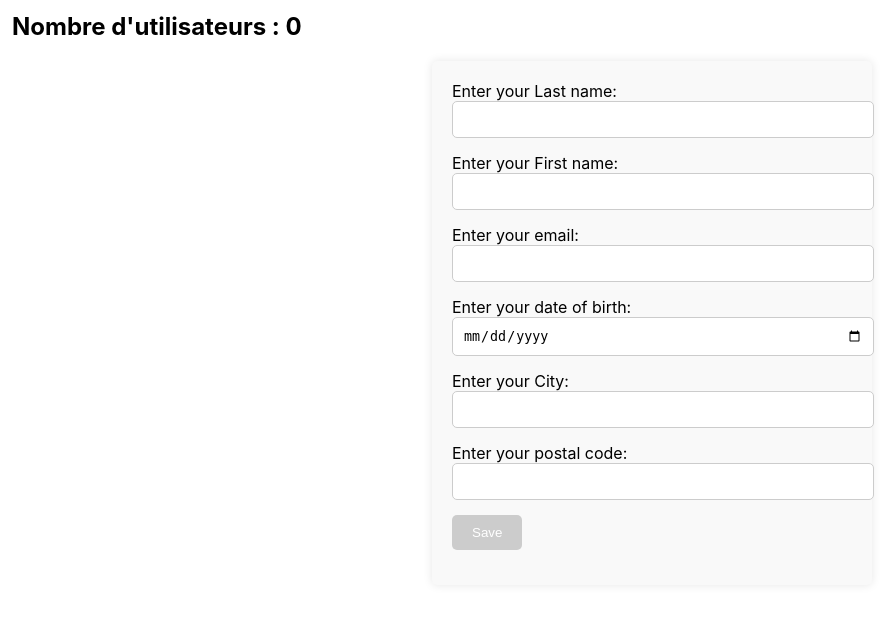
Test case: Form › validates email field
The image size is (891, 639).
# Valid email
Type "test@example.com" into the field labelled "Enter your email:".
click(663, 263); type("test@example.com")  # box [452, 245, 874, 282]
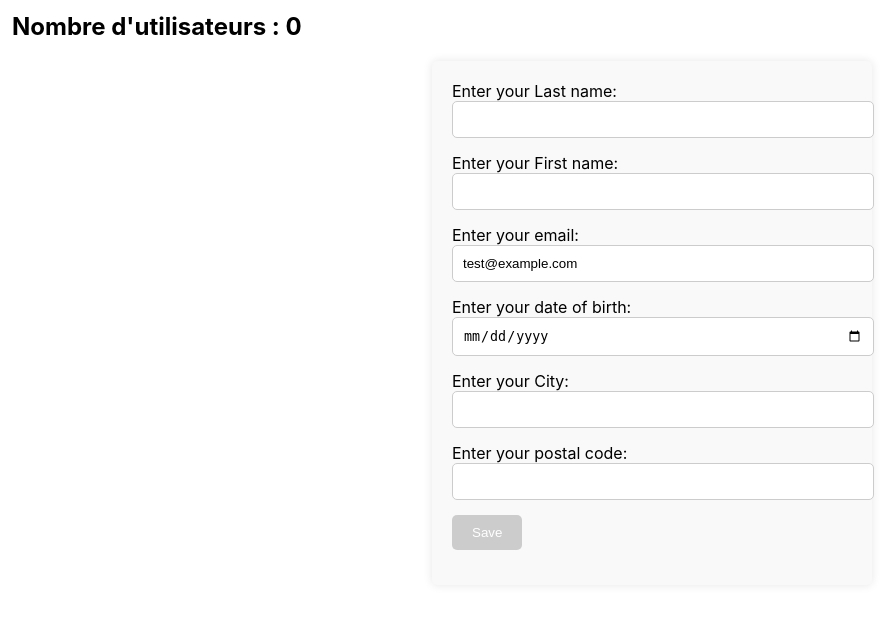
Check: the text "Veuillez entrer une adresse email valide." is not shown
# Invalid email
Replace the text in the field labelled "Enter your email:" with "invalid-email" at (663, 263), box [452, 245, 874, 282]
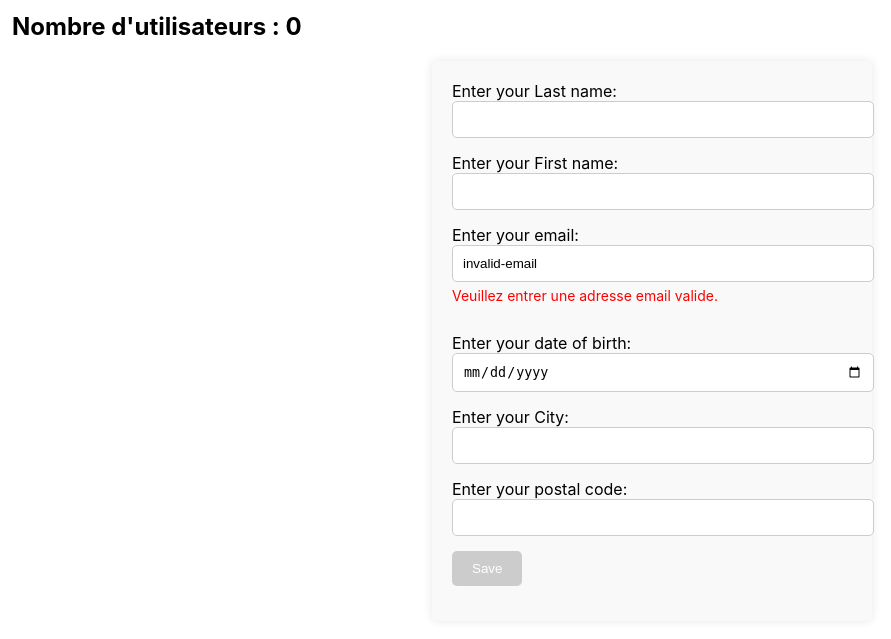
Check: the text "Veuillez entrer une adresse email valide." is shown, box [452, 287, 718, 304]
